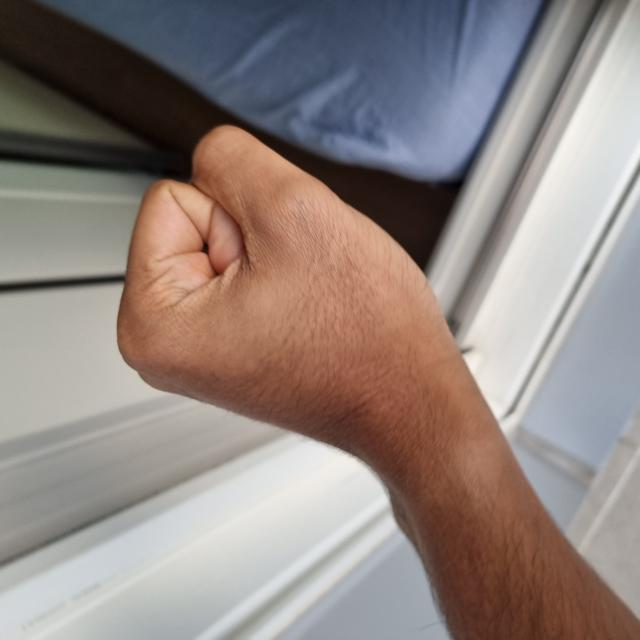Rock: (168, 112, 516, 460)
